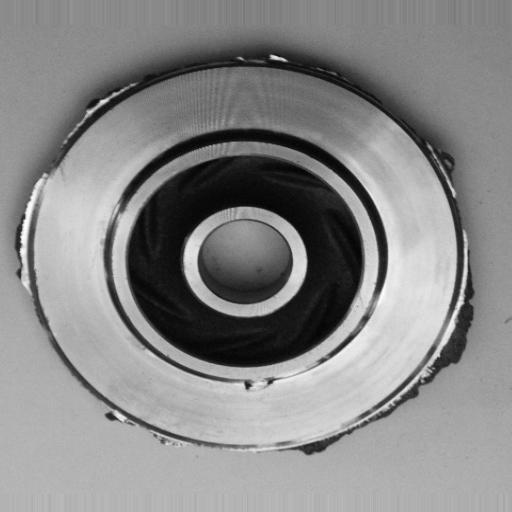casting_with_burr: (14, 48, 479, 459)
crack: (232, 369, 290, 398)
